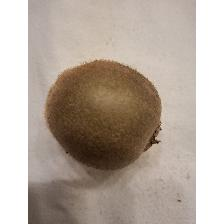Kiwi: (43, 57, 167, 173)
